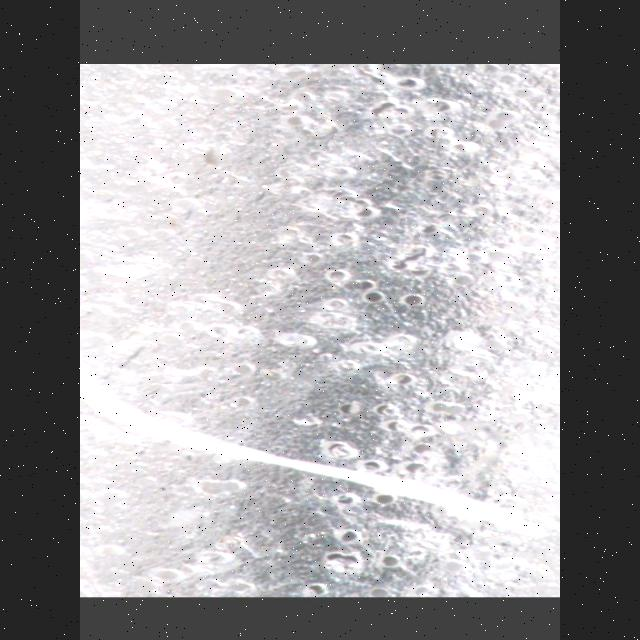Fibre: (80, 95, 552, 550)
